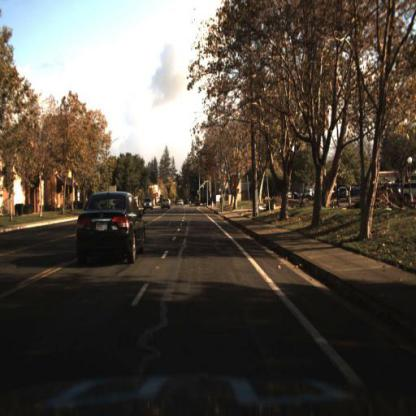car: (69, 192, 147, 274), (145, 199, 155, 212), (162, 197, 171, 211), (196, 200, 201, 207), (180, 201, 185, 206)
pedestrian: (221, 195, 223, 211)
